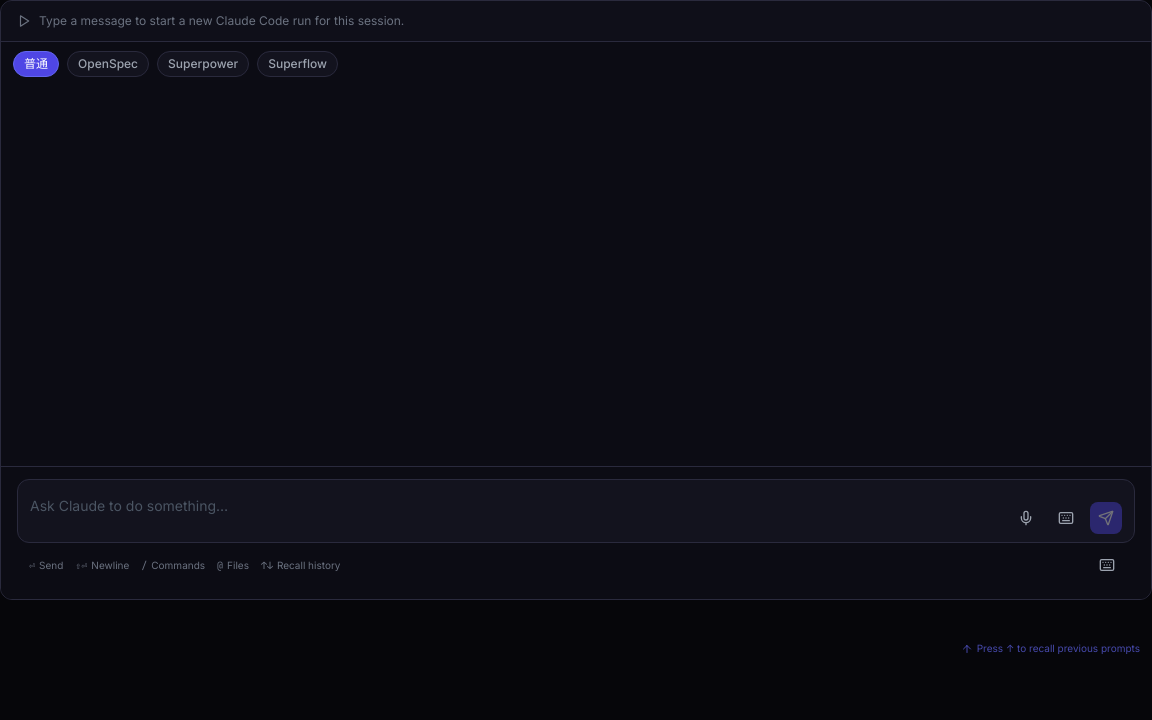
Test: ChatTab workflow mode › enters an error state with Retry/Cancel when the first-workflow start fails
Click the radio button labelled "OpenSpec": [108, 64] box [67,51,149,77]
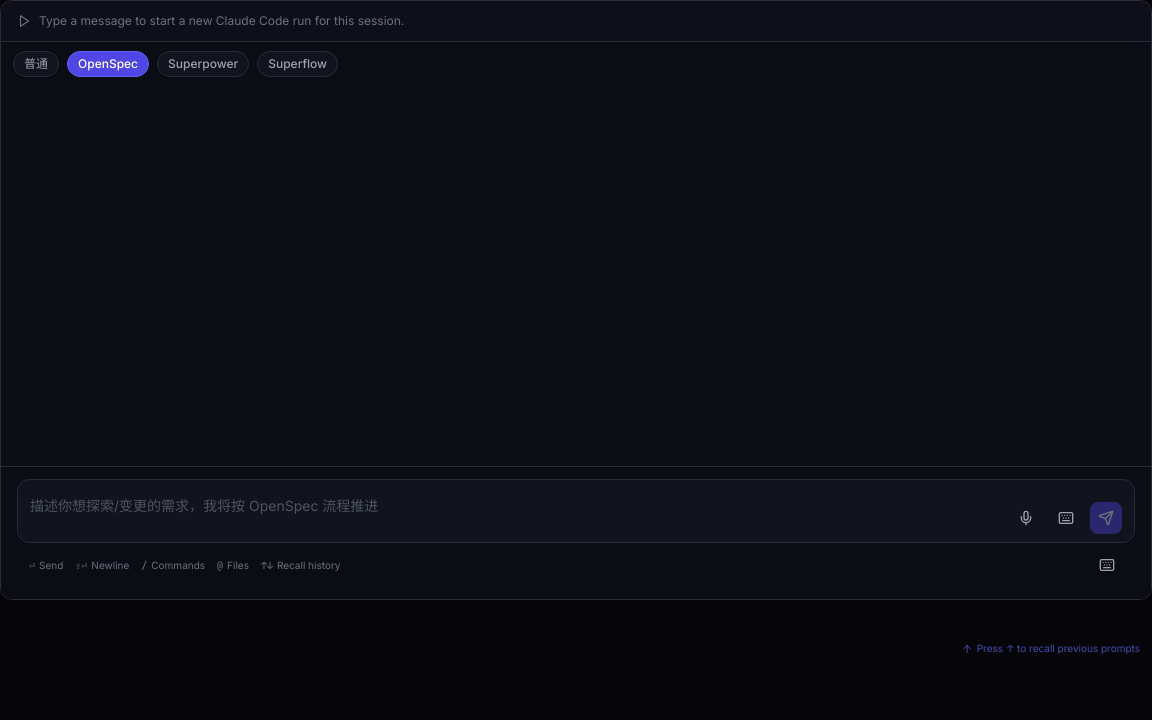
In the text box: [516, 508] box [30,488,1002,528], type "fail me"
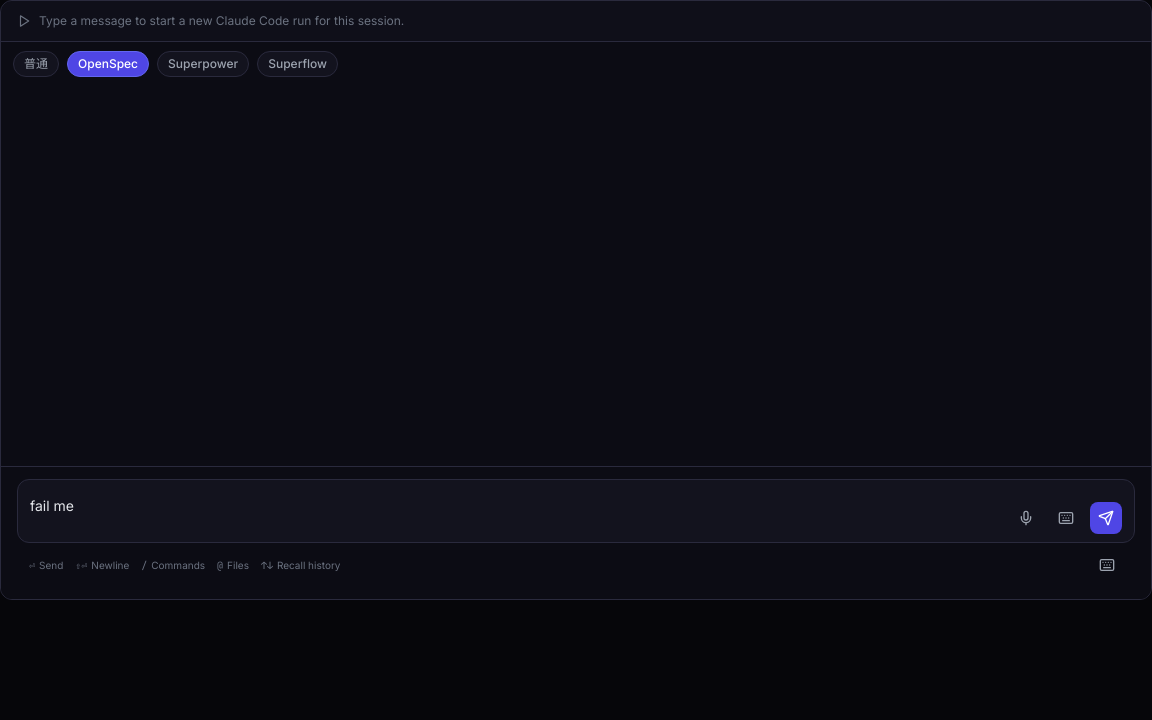
Click the button named "send": [1106, 518] box [1090,502,1122,534]
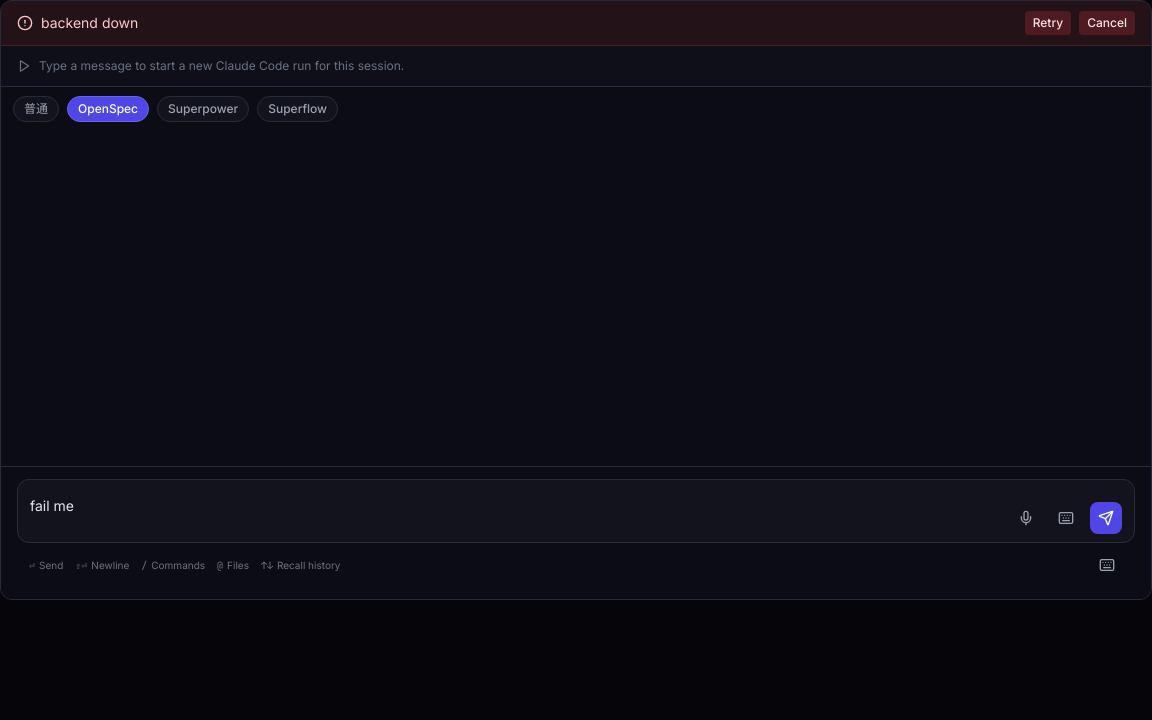
expect the text "backend down" is shown once: met, box [41,14,138,31]
expect the button "Retry" is shown: met, box [1025,11,1071,35]
expect the button "Cancel" is shown: met, box [1079,11,1135,35]
